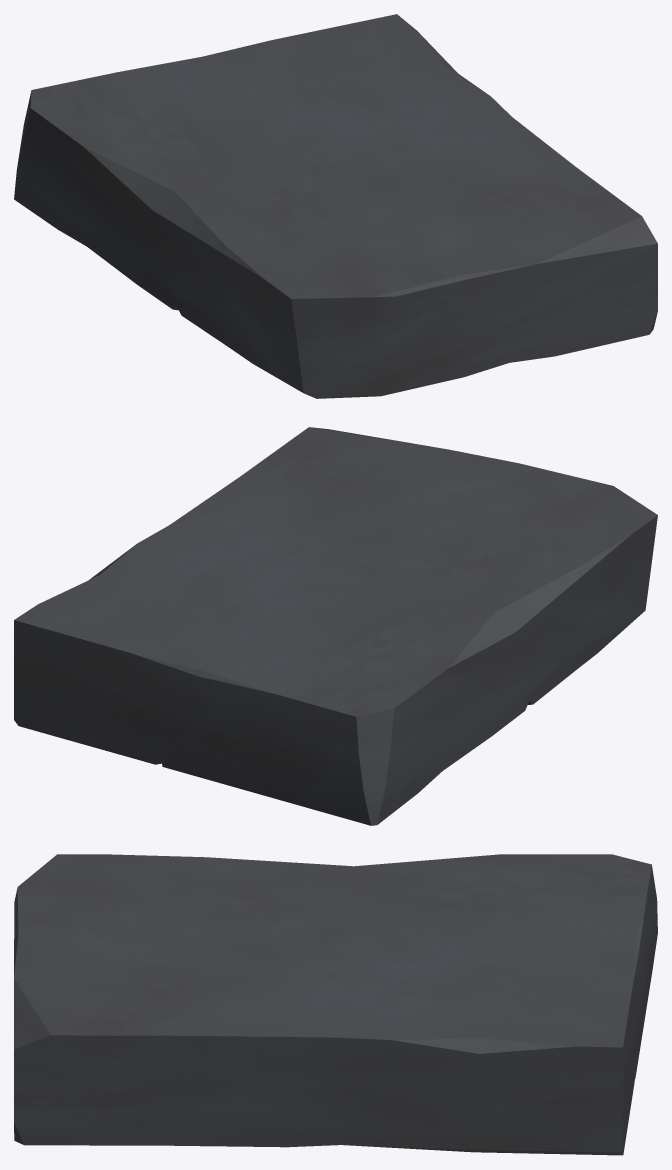
Rendered from ruins_slab_2.fbx.
The picture shows the model from 3 angles, top to bottom: view 1: azimuth 30°, elevation 25°; view 2: azimuth 150°, elevation 25°; view 3: azimuth 270°, elevation 25°; orthographic projection. The views are drawn at different scales.
Visible parts, largest first — view 1: slab 2; view 2: slab 2; view 3: slab 2.
Boxes of the visible parts, box(x1,y1,x2,y2) form: slab 2: box(14, 14, 657, 398); slab 2: box(14, 427, 657, 825); slab 2: box(14, 854, 657, 1155).
Bounding box in the file's own units: 151 × 40 × 212.
